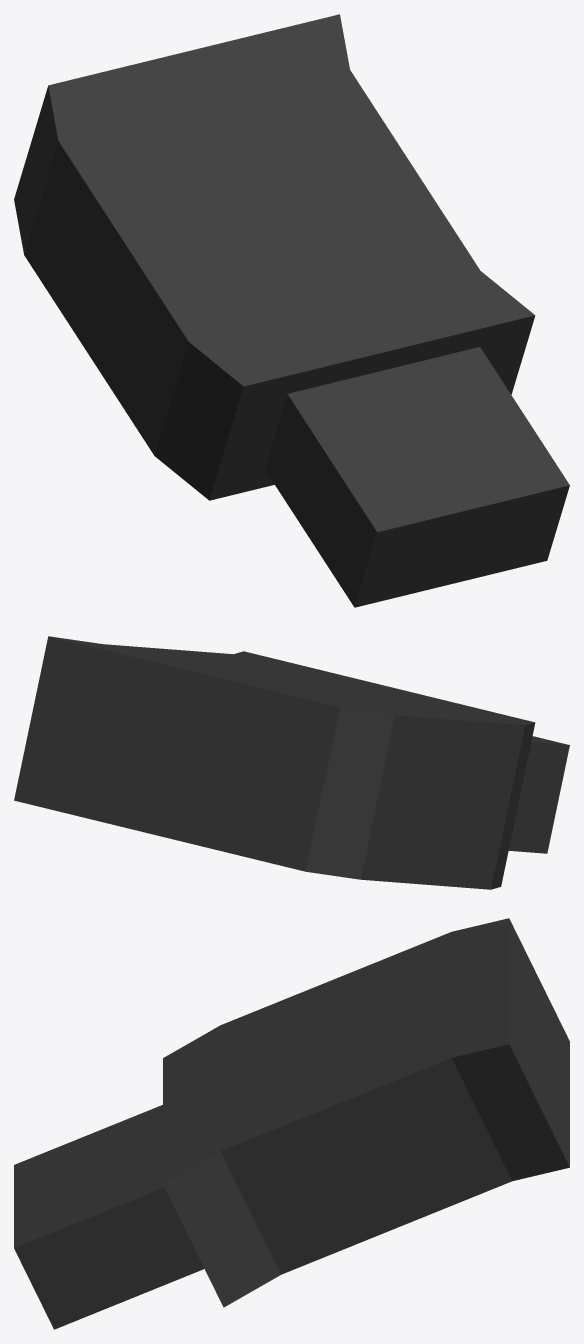
The model's file is SMG2_05_4.fbx.
3 views of the same model, one above another, from view 1: azimuth 30°, elevation 25°; view 2: azimuth 150°, elevation 25°; view 3: azimuth 270°, elevation 25° (orthographic). The views are drawn at different scales.
Visible parts, largest first — view 1: SMG2_05_4; view 2: SMG2_05_4; view 3: SMG2_05_4.
Part boxes in pixels (x1=…): SMG2_05_4: x1=14, y1=14, x2=569, y2=607; SMG2_05_4: x1=14, y1=636, x2=569, y2=889; SMG2_05_4: x1=14, y1=918, x2=569, y2=1329.
Size of the model in its own units: 0.0118 by 0.0124 by 0.0204.
